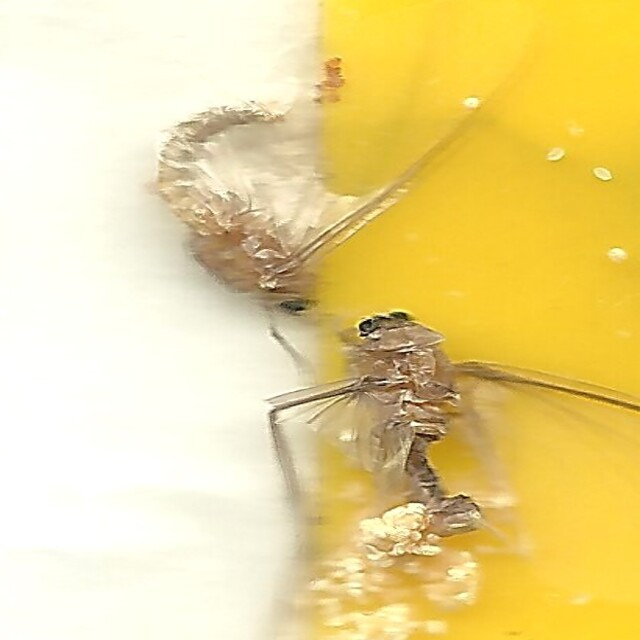Ephemeroptera: (156, 103, 318, 325), (351, 311, 484, 537)
